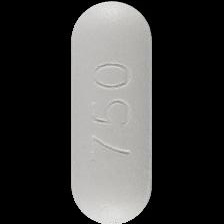61919-735: (0, 0, 224, 224)
